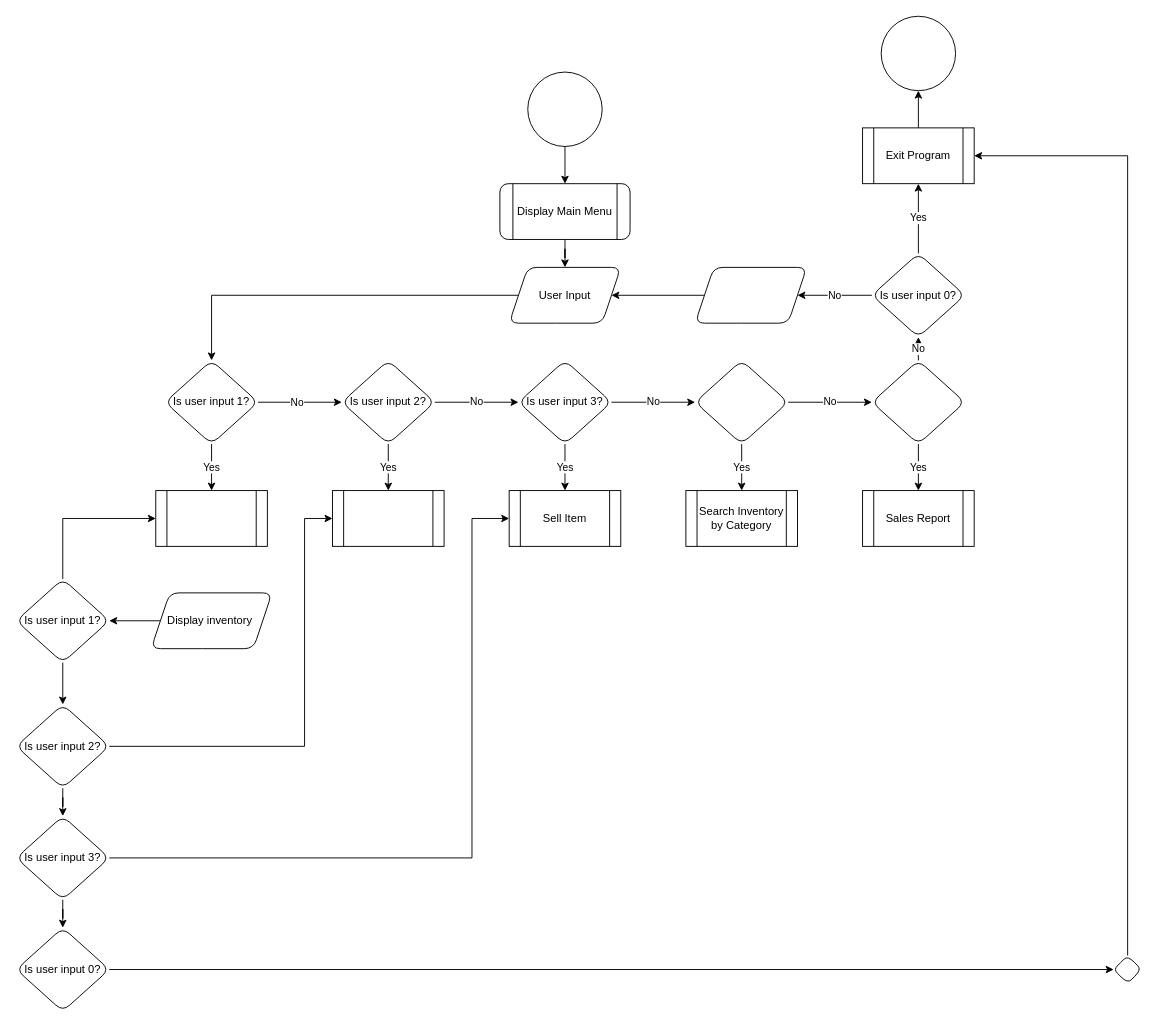
Some shapes in this 1158 by 1028 pixel diagram are drawn without their labels. Each missing label, with the centre of its shape:
END: pixel 918 53
Is user input 4?: pixel 741 401
Is user input 5?: pixel 918 401
Print "Invalid Option": pixel 750 294
Restock Inventory: pixel 388 518
Start: pixel 564 108
View Inventory: pixel 211 518
